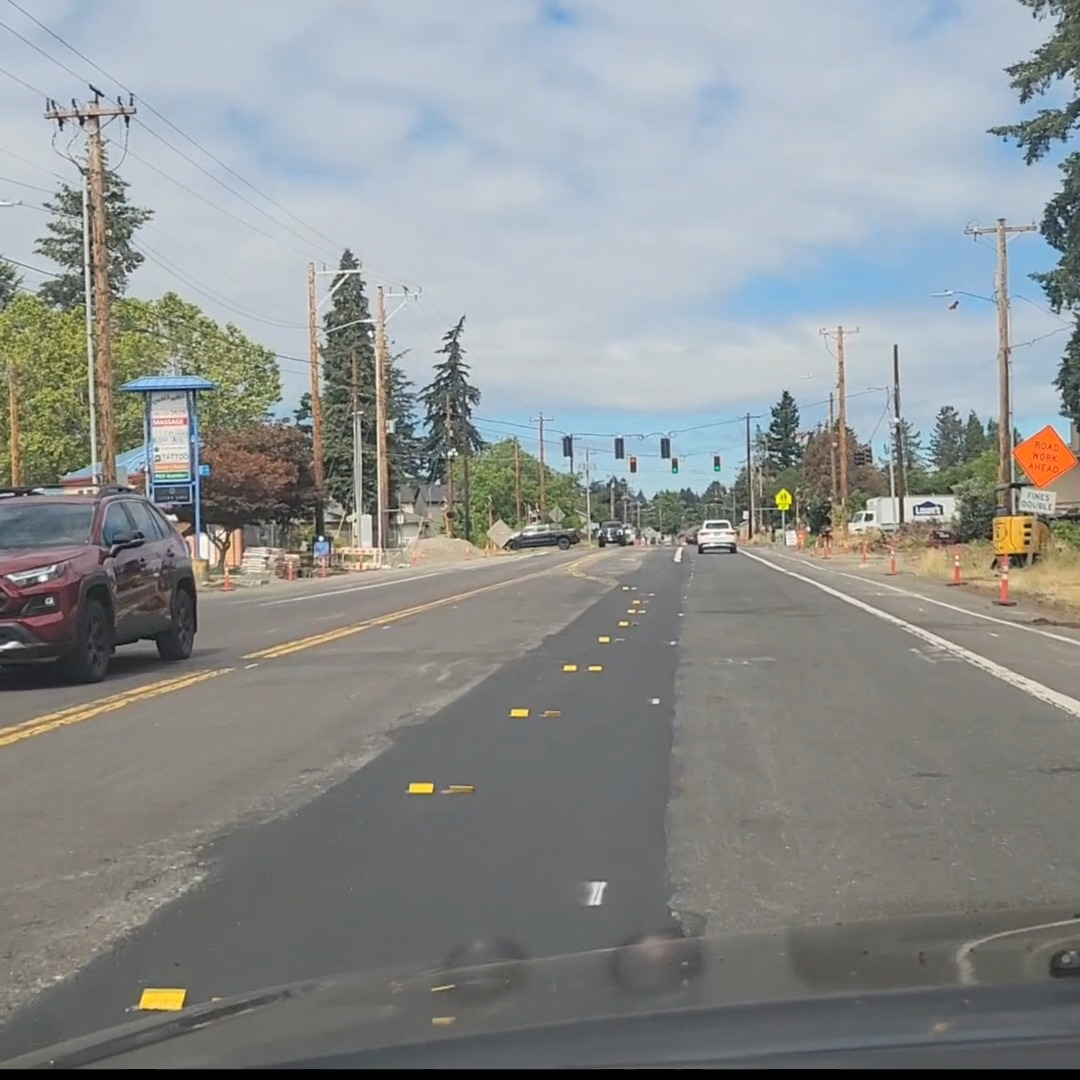car: (1, 483, 200, 683), (506, 522, 582, 550), (695, 519, 738, 553), (595, 521, 636, 547), (925, 528, 961, 548), (682, 529, 698, 545)
crosswalk-sign: (775, 487, 792, 510), (549, 505, 565, 523)
delineator: (991, 560, 1016, 606), (949, 550, 964, 583), (886, 543, 898, 575), (410, 540, 421, 565), (820, 535, 831, 558), (484, 539, 498, 556), (317, 557, 328, 577), (859, 541, 868, 564), (809, 533, 817, 555), (795, 529, 803, 551), (839, 533, 848, 552)
